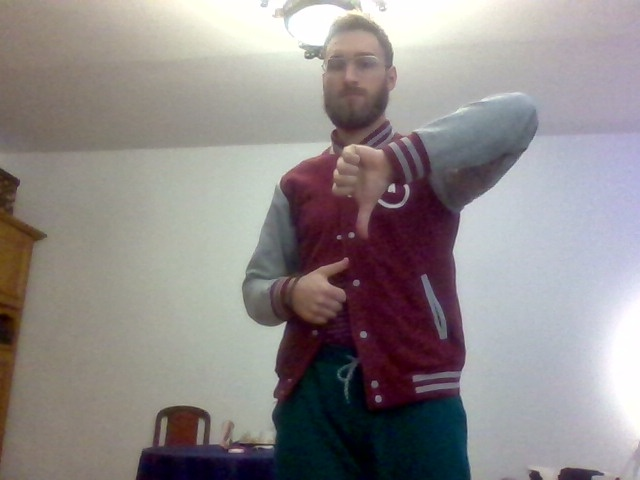ThumbsDown: (332, 144, 384, 240)
